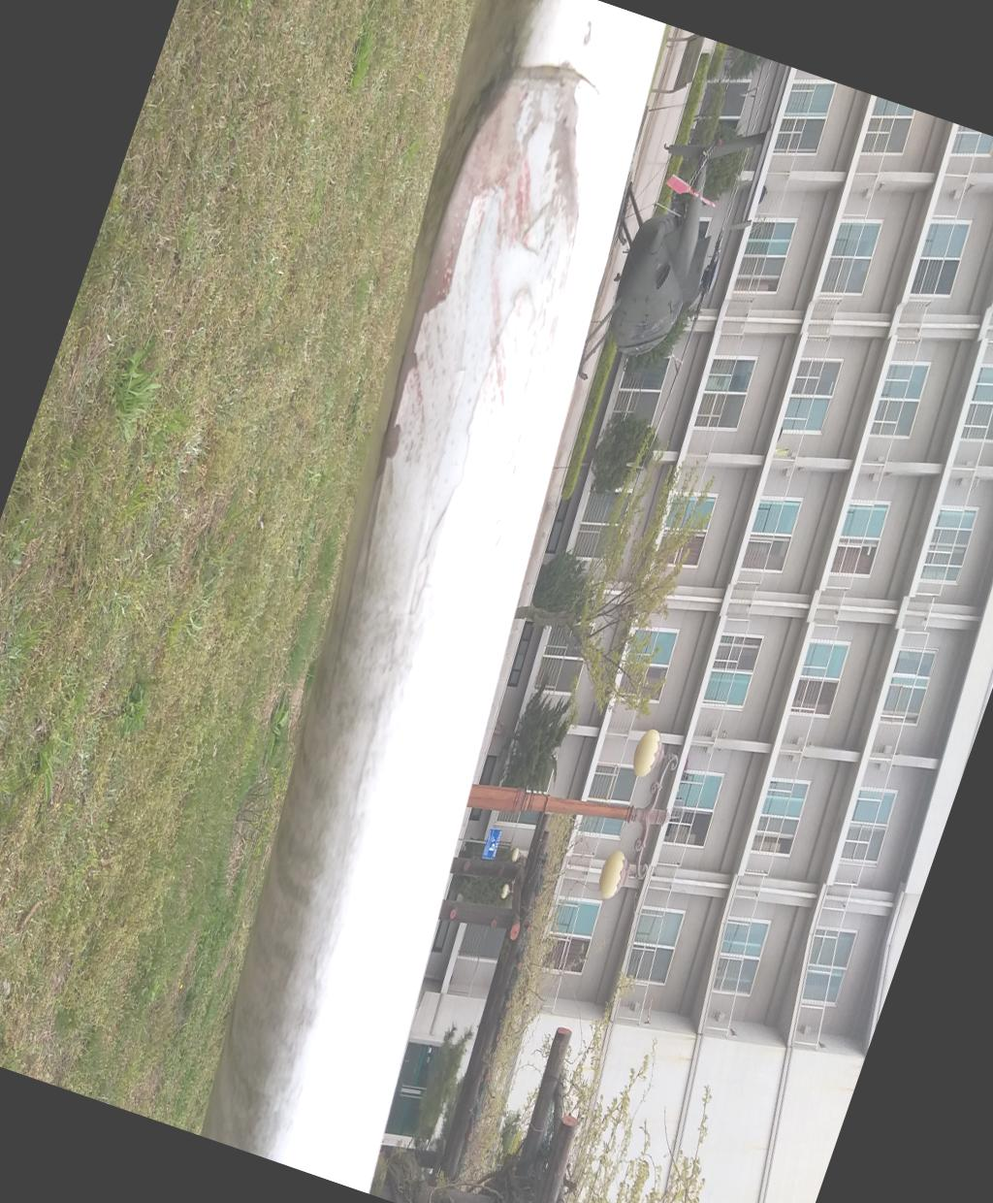corrosion: (225, 1071, 437, 1203)
